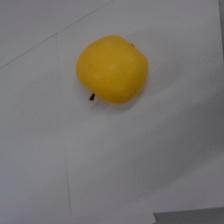yellow: (74, 31, 151, 108)
